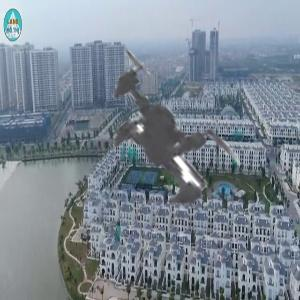drone: (9, 3, 299, 293)
